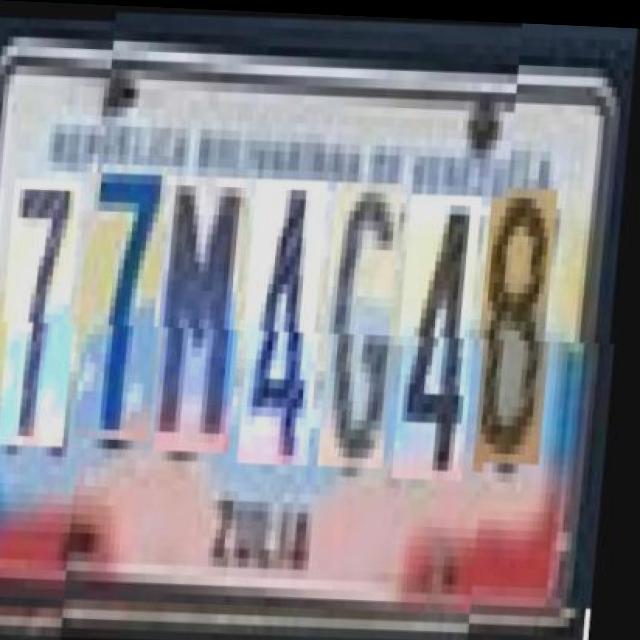4: (246, 176, 336, 465), (400, 190, 490, 479)
7: (82, 161, 176, 441), (6, 169, 90, 439)
8: (481, 193, 566, 472)
g: (325, 177, 411, 466)
m: (160, 173, 256, 453)
